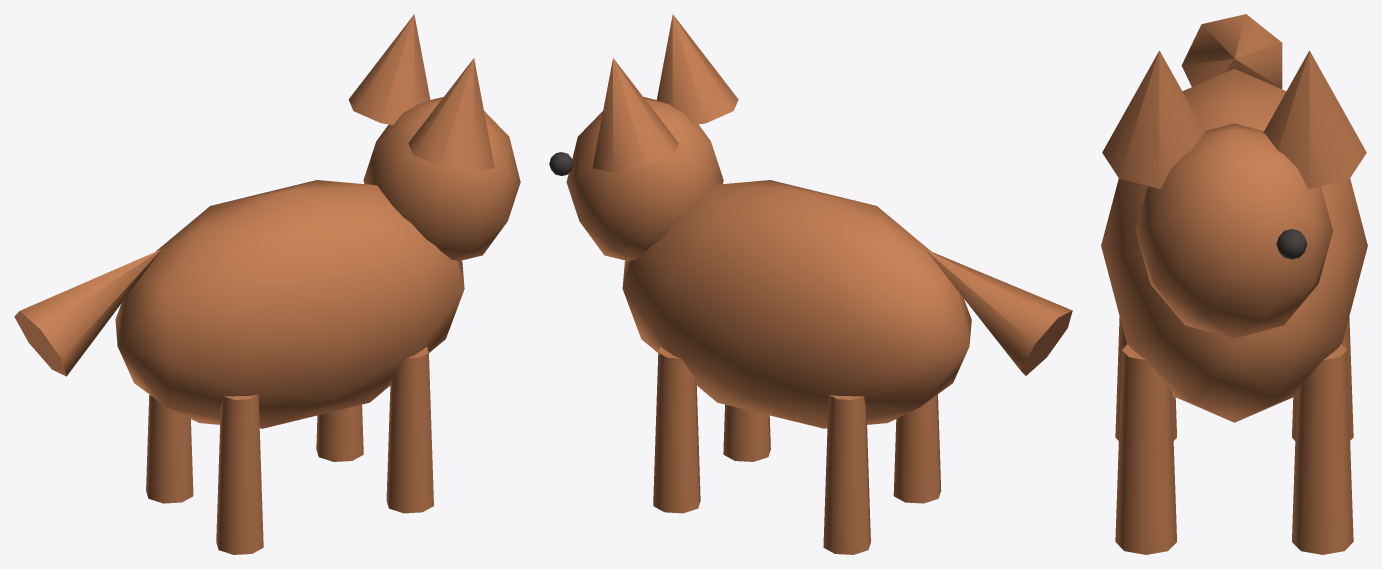
The model's file is cat.glb.
3 views of the same model, side by side, from view 1: azimuth 30°, elevation 25°; view 2: azimuth 150°, elevation 25°; view 3: azimuth 270°, elevation 25° (orthographic). The views are drawn at different scales.
Parts seen in each view (by area): view 1: cat; view 2: cat; view 3: cat.
Boxes of the visible parts, x1=… form: cat: x1=14, y1=14, x2=520, y2=554; cat: x1=549, y1=14, x2=1072, y2=554; cat: x1=1101, y1=14, x2=1367, y2=554.
Size of the model in its own units: 1.61 by 1.34 by 0.6048.
